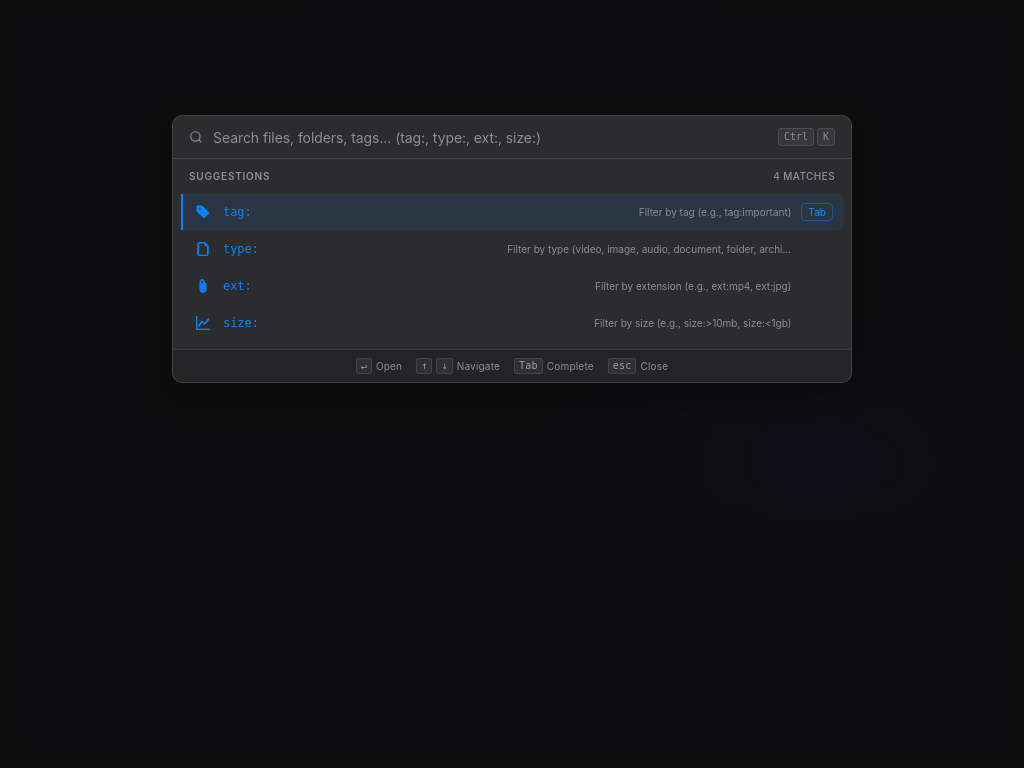
Test: SpotlightSearch › Search Functionality › should filter files by tag
The width and height of the screenshot is (1024, 768).
Type "document" into the field with placeholder "Search files, folders, tags... (tag:, type:, ext:, size:)" at (490, 137), box [213,129,768,146]
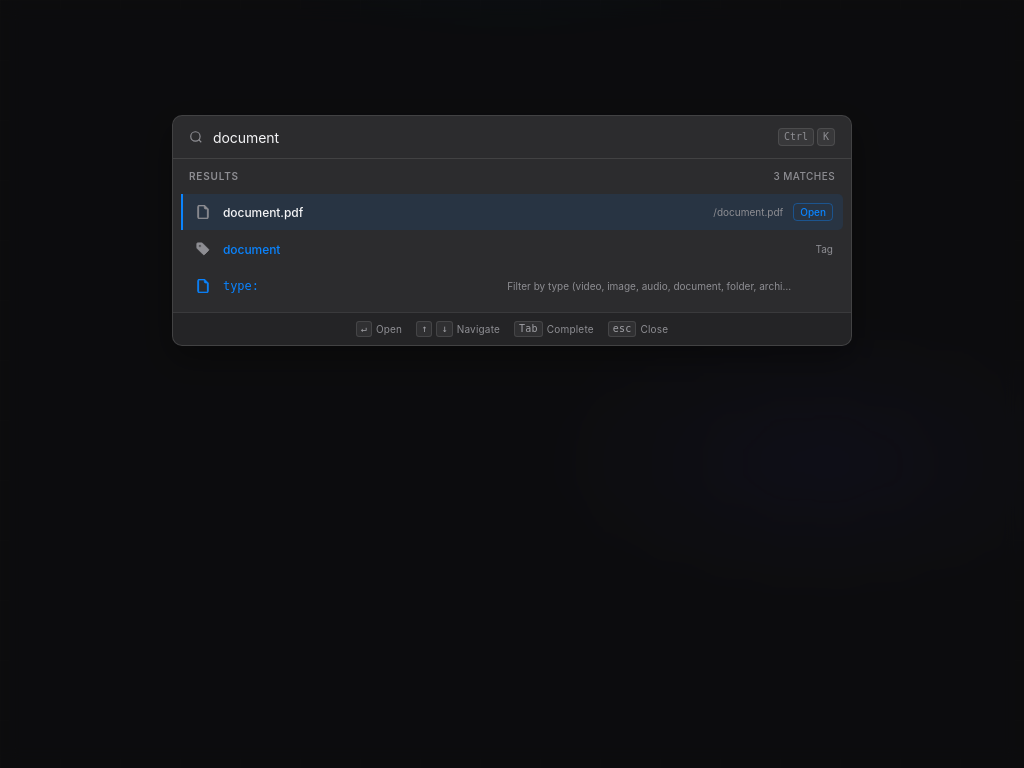
Result: the text "document.pdf" is shown at [223,205,303,220]
